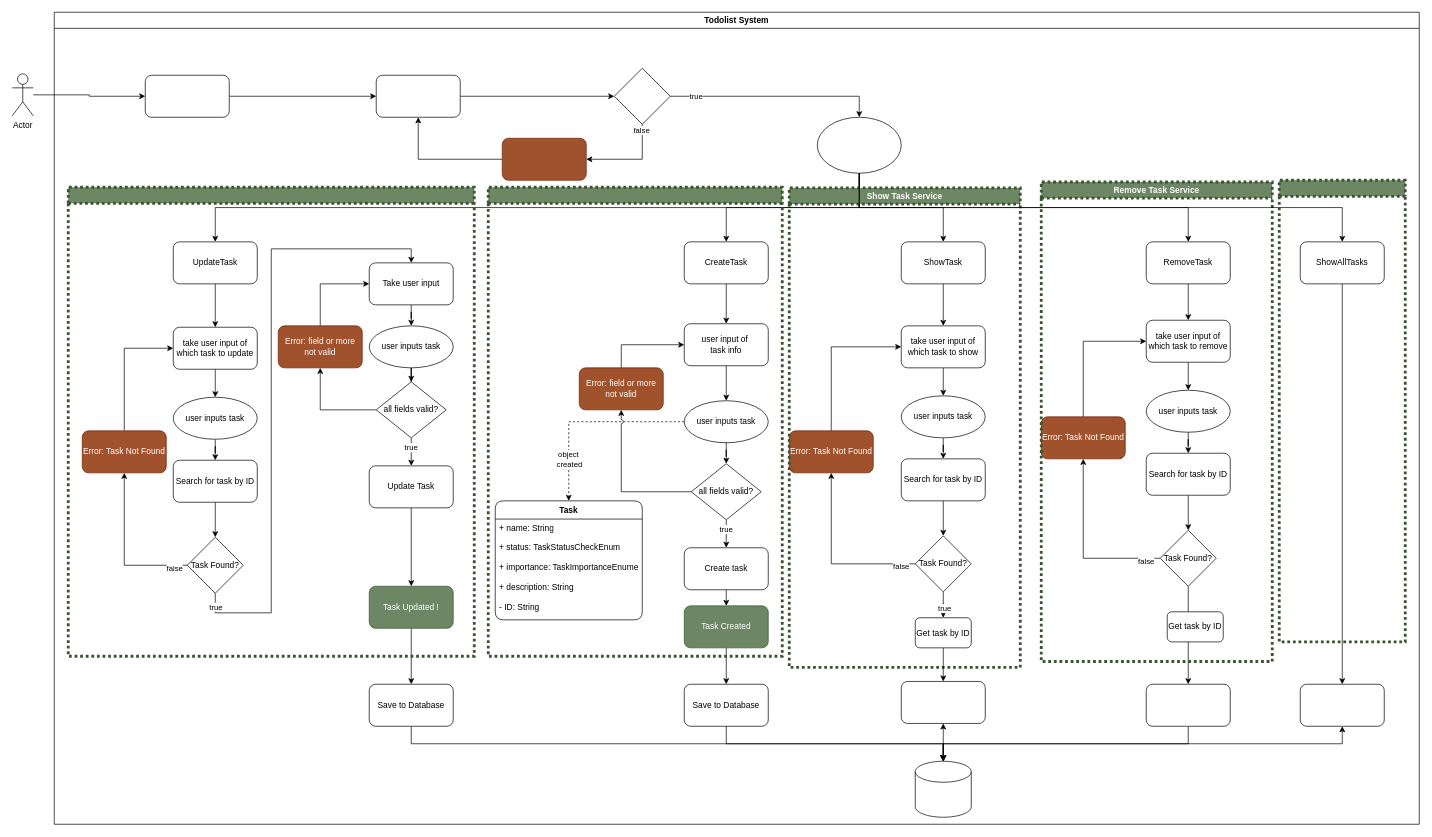
This 1432x837 diagram has some shape labels left out. Here are the shapes that lost their labels. From the top down, the box of each, then its label:
(145, 75, 229, 117): greetings & show options
(376, 75, 460, 117): ask user input for option
(614, 68, 670, 124): option valid?
(502, 138, 586, 180): Error: choose a valid option
(817, 117, 901, 173): number of option directs to the service needed
(66, 186, 475, 657): Update Task Service
(486, 186, 783, 657): Create Task Service
(1278, 178, 1406, 643): Show all tasks Service
(901, 681, 985, 723): Get by ID
(1146, 684, 1230, 726): Delete Task by id
(1300, 684, 1384, 726): GetAllTasks
(915, 761, 971, 817): DB database.csv
